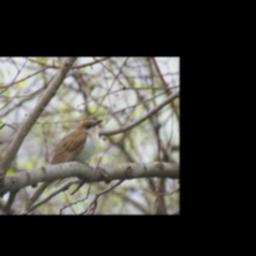Cuckoo: (21, 119, 104, 215)
